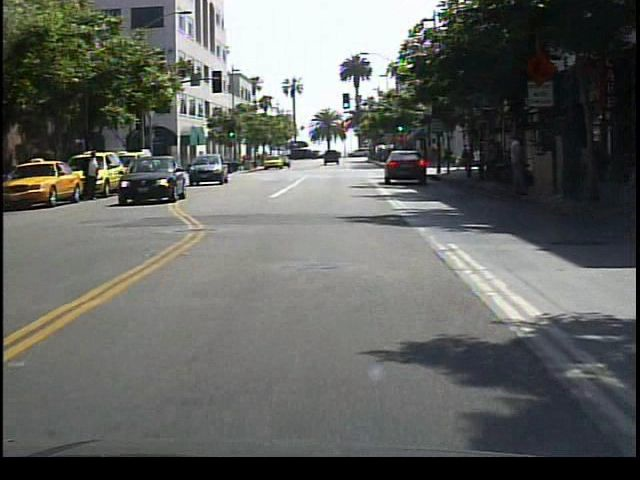person: (504, 130, 532, 202), (84, 147, 105, 209)
